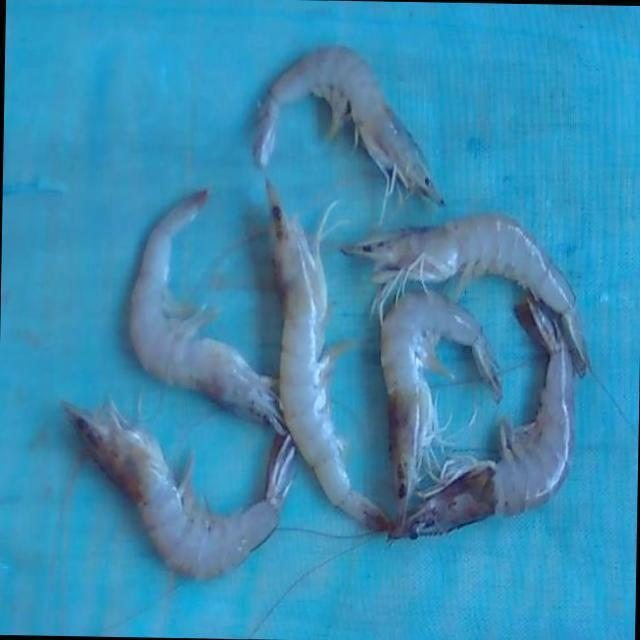shrimp: (266, 180, 392, 531), (393, 294, 573, 537), (64, 405, 295, 579), (343, 214, 590, 375), (131, 190, 286, 435), (252, 46, 444, 204), (381, 291, 502, 526)
